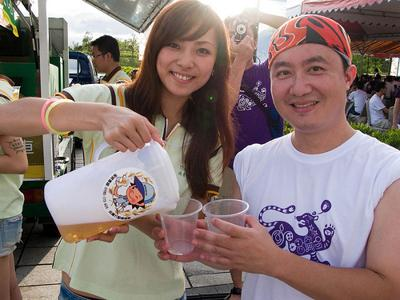person: (2, 2, 232, 300)
